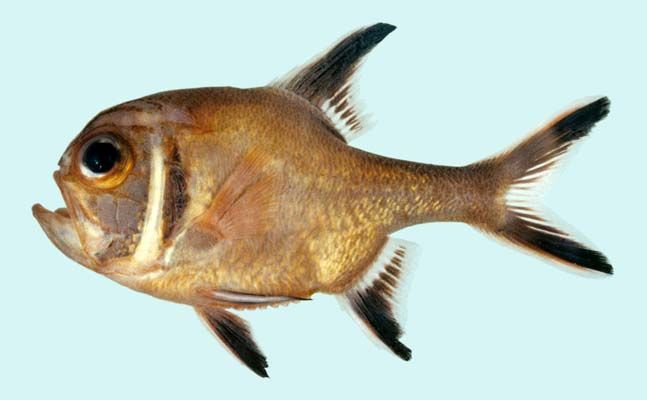fish: (31, 21, 615, 379)
